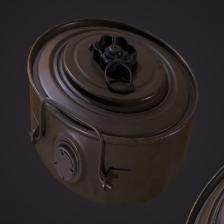TM-46: (21, 14, 194, 204)
